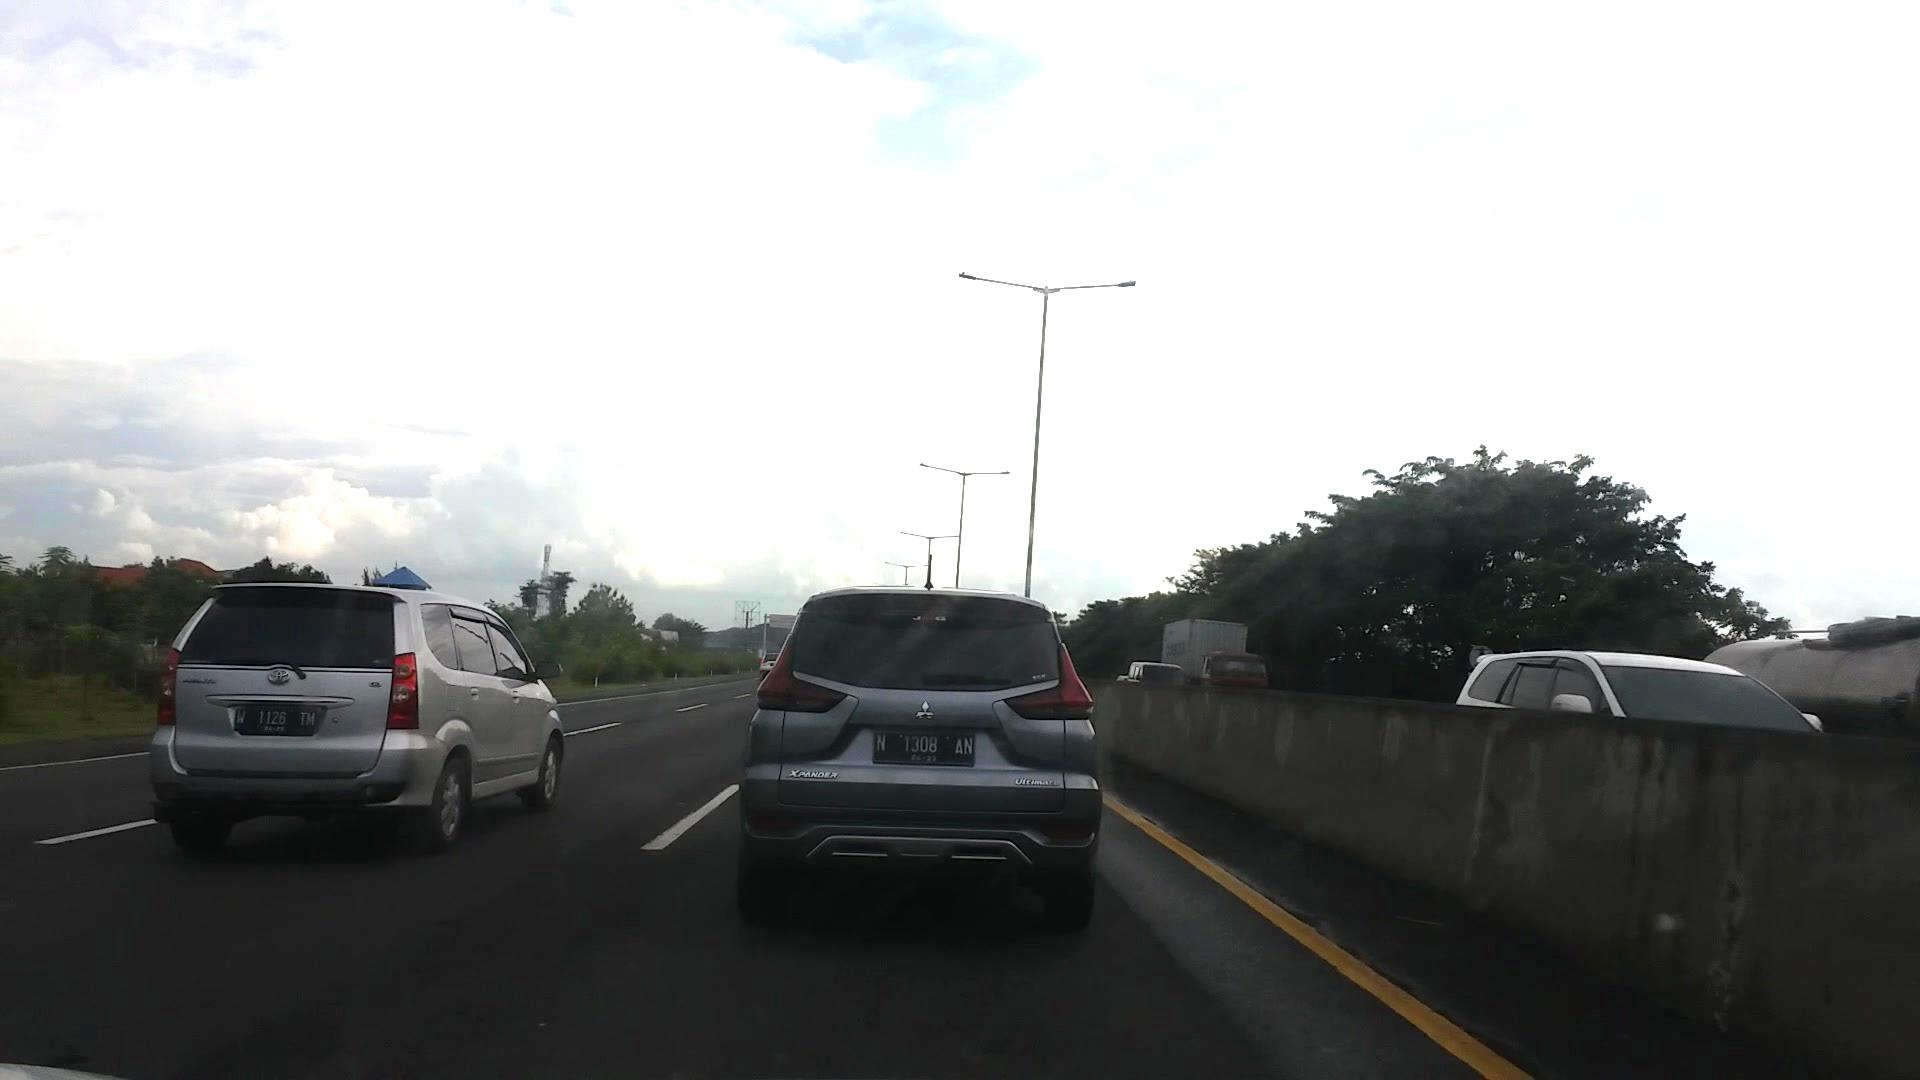plate_positive: (872, 732, 975, 766), (233, 705, 318, 735)
